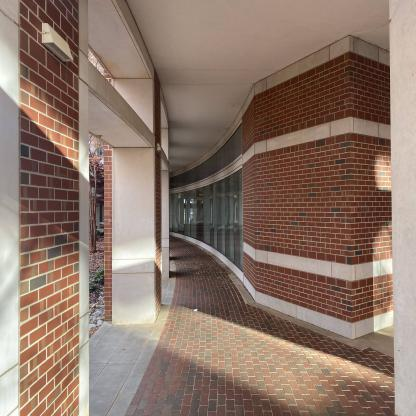EB-1: (2, 3, 414, 404)
